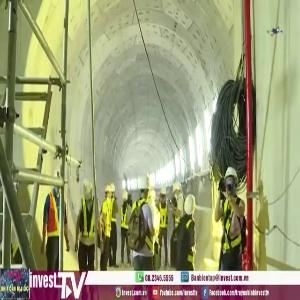drone: (260, 16, 292, 48)
